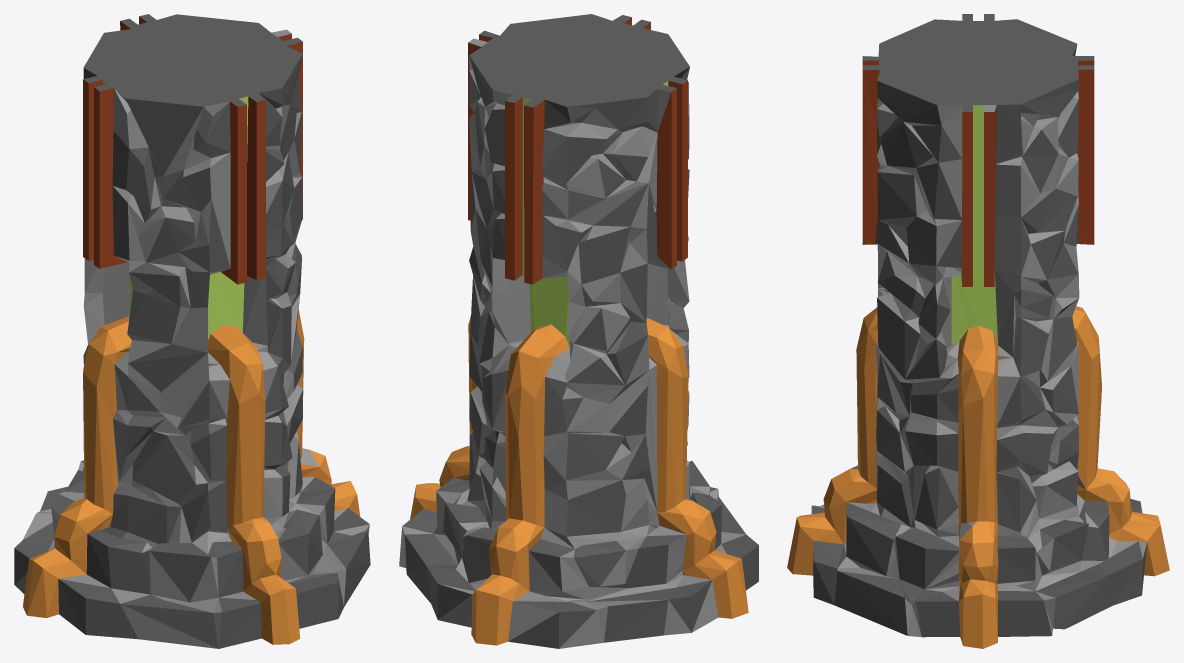
File: Torre_base.fbx
The picture shows the model from 3 angles, left to right: view 1: azimuth 30°, elevation 25°; view 2: azimuth 150°, elevation 25°; view 3: azimuth 270°, elevation 25°; orthographic projection.
Visible parts, largest first — view 1: Torre; view 2: Torre; view 3: Torre.
Boxes of the visible parts, x1,y1,x2,y2 form: Torre: [14, 14, 370, 648]; Torre: [399, 14, 758, 648]; Torre: [787, 14, 1169, 648].
Bounding box in the file's own units: 96.82 × 96.69 × 141.
